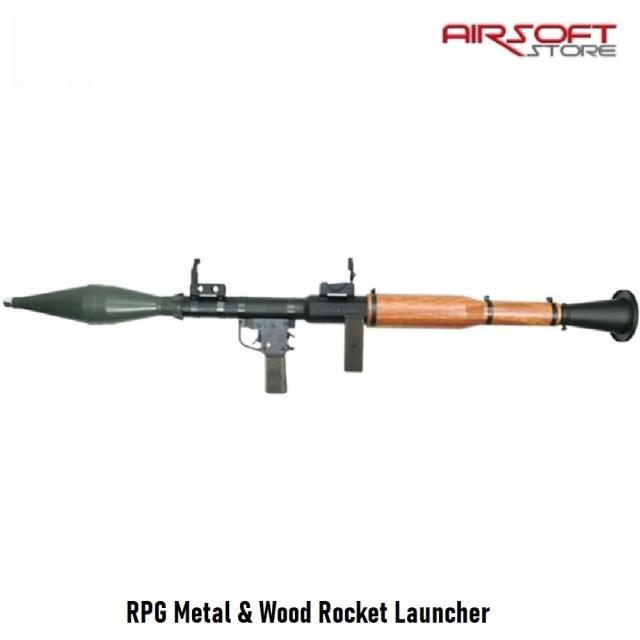bazooka: (8, 233, 640, 423)
